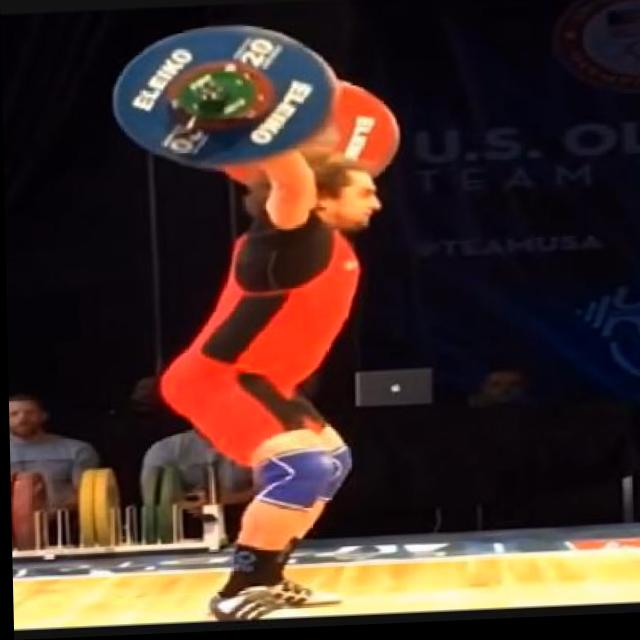barbell: (108, 19, 340, 177)
